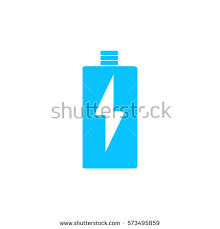charging sign: (58, 42, 162, 188)
